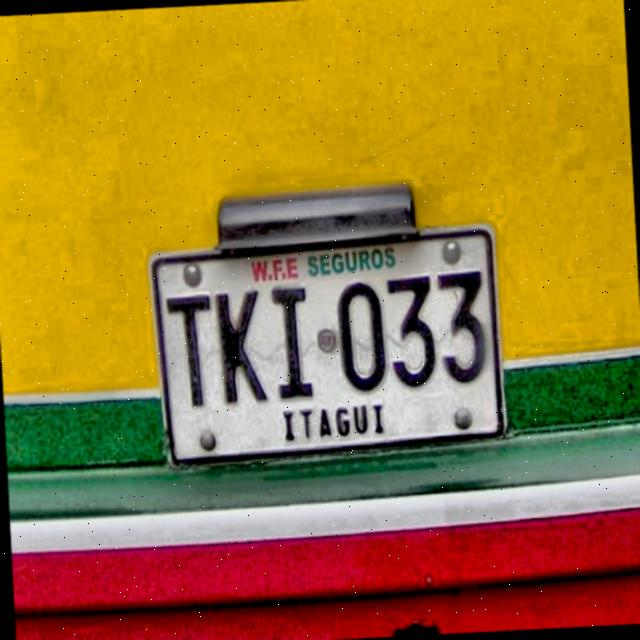0: (333, 277, 390, 396)
3: (383, 273, 443, 393), (434, 269, 491, 388)
I: (268, 282, 321, 403)
K: (213, 285, 276, 410)
T: (163, 293, 214, 411)
